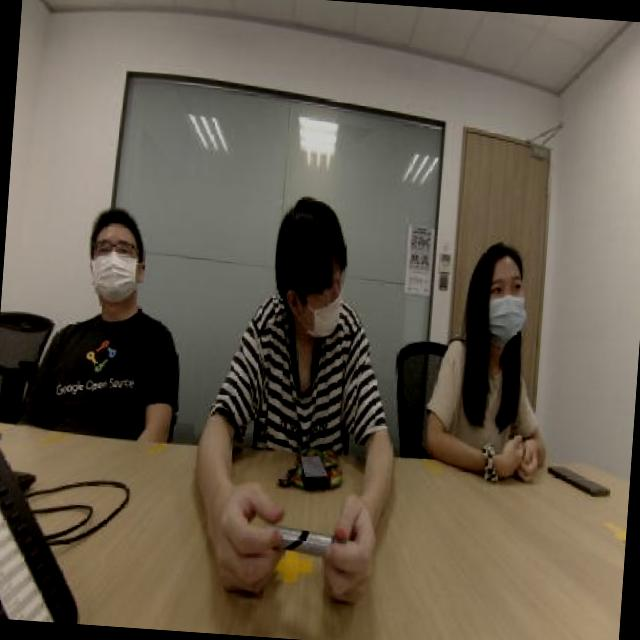Person: (196, 172, 392, 446), (32, 180, 192, 436), (431, 211, 557, 461)
